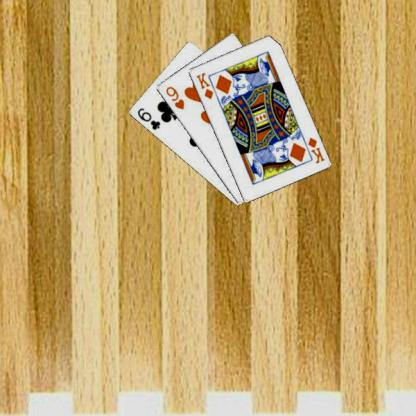6C: (134, 105, 161, 132)
9H: (162, 84, 186, 111)
KD: (193, 69, 214, 101), (305, 134, 325, 164)
